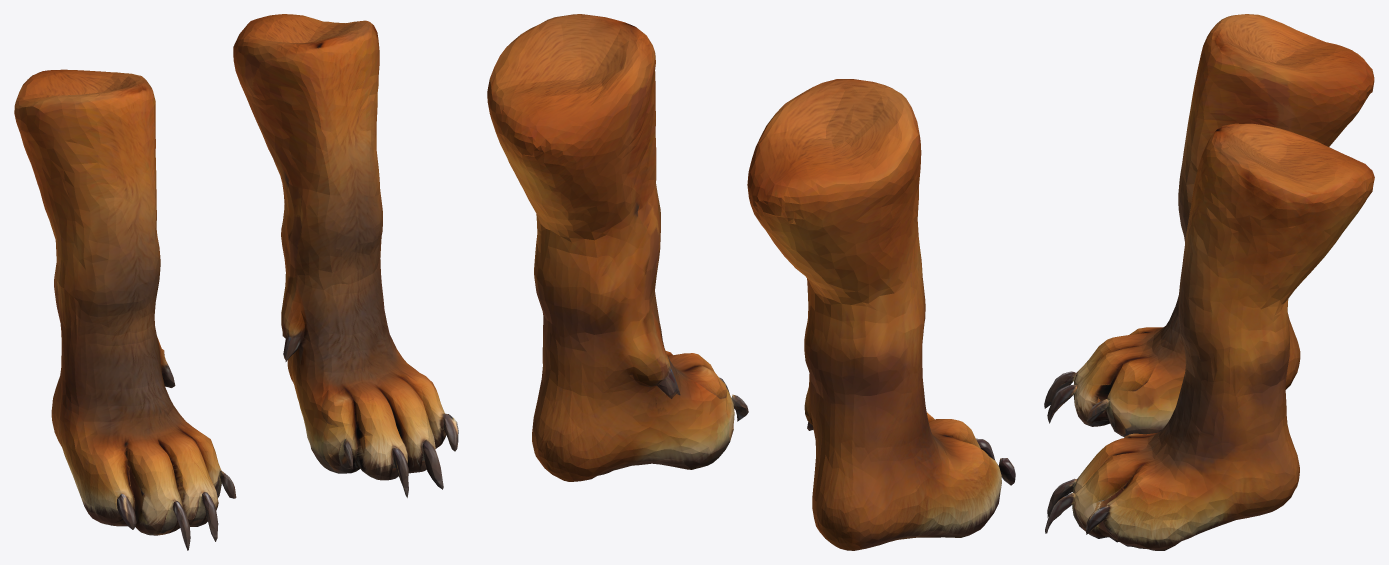
The model's file is Feline_Paws_Display_0418182412_texture.fbx.
3 renders of one model, left to right at view 1: azimuth 30°, elevation 25°; view 2: azimuth 150°, elevation 25°; view 3: azimuth 270°, elevation 25°, orthographic. The views are drawn at different scales.
Parts seen in each view (by area): view 1: temp; view 2: temp; view 3: temp.
Boxes of the visible parts, x1=… form: temp: x1=14, y1=14, x2=458, y2=550; temp: x1=487, y1=14, x2=1015, y2=550; temp: x1=1044, y1=14, x2=1374, y2=550.
Size of the model in its own units: 182 by 198 by 151.
Materials: 1 (1 with a texture image).
